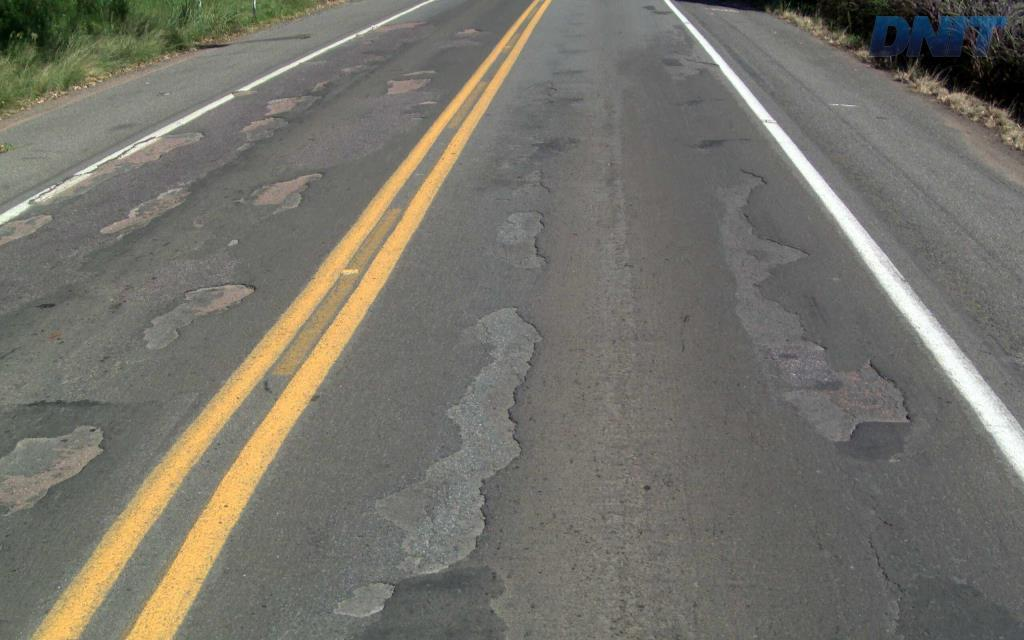pothole: (702, 165, 920, 449), (362, 301, 550, 578), (487, 204, 557, 272), (329, 578, 400, 627)
